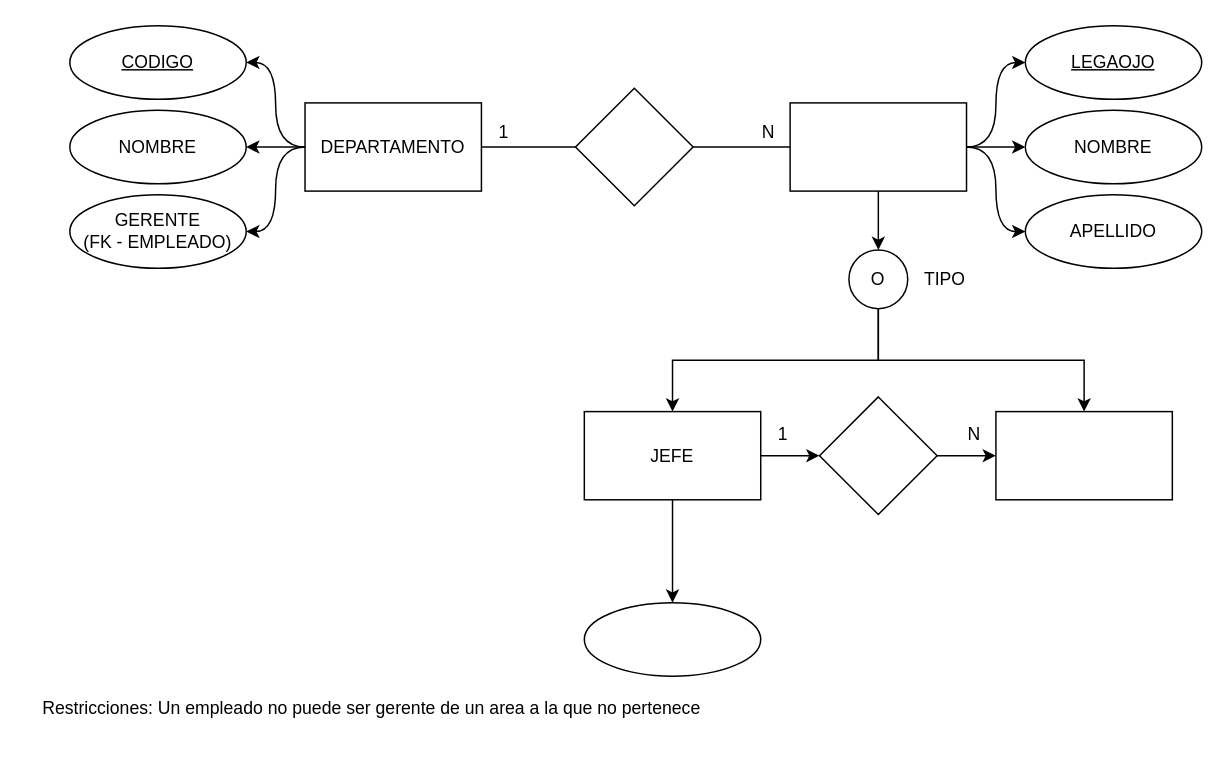
Image size: 1227x757. Some labels were removed from this diagram. The centre of each missing label's shape, as x and y in pixels:
"CELULAR" belongs at (672,638).
"EMPLEADO" belongs at (878,146).
"ES JEFE DE" belongs at (877,454).
"ESCLAVO" belongs at (1083,455).
"TIENE" belongs at (633,146).
